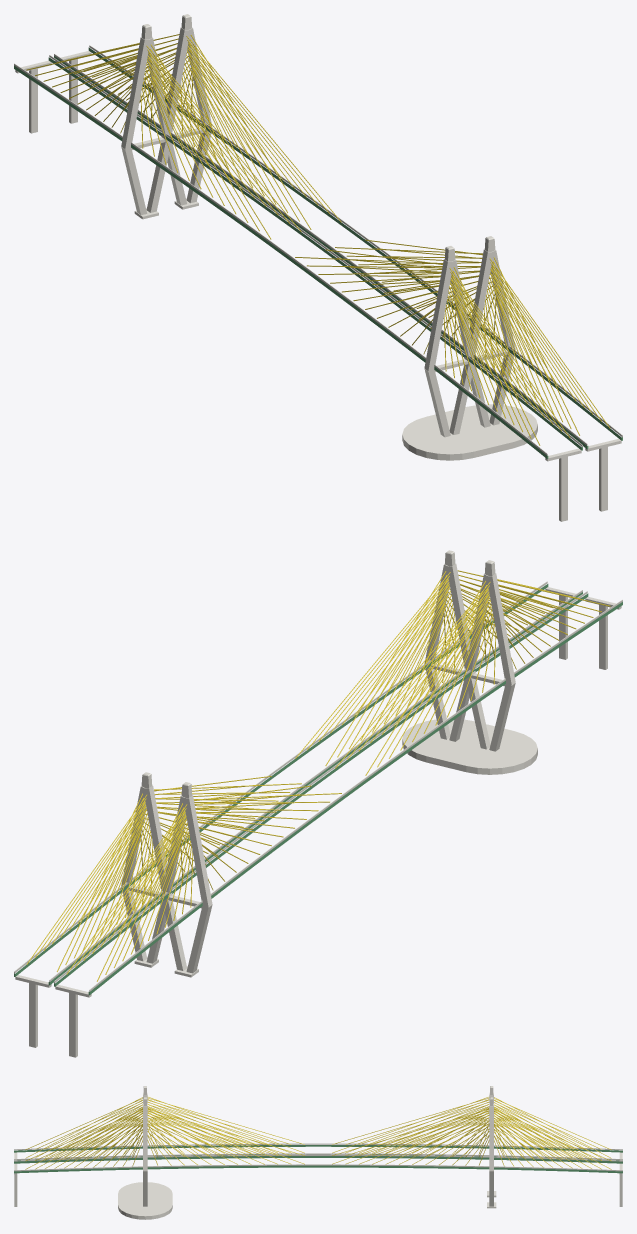
Rendered from hou-fred-hartman-bridge.detail.glb.
3 views of the same model, one above another, from view 1: azimuth 30°, elevation 25°; view 2: azimuth 150°, elevation 25°; view 3: azimuth 270°, elevation 25° (orthographic). The views are drawn at different scales.
Parts seen in each view (by area): view 1: Fred Hartman Bridge; view 2: Fred Hartman Bridge; view 3: Fred Hartman Bridge.
Boxes of the visible parts, x1,y1,x2,y2 form: Fred Hartman Bridge: (14,14,622,521); Fred Hartman Bridge: (14,550,622,1057); Fred Hartman Bridge: (14,1086,622,1219).
Bounding box in the file's own units: 89 × 134 × 670.
